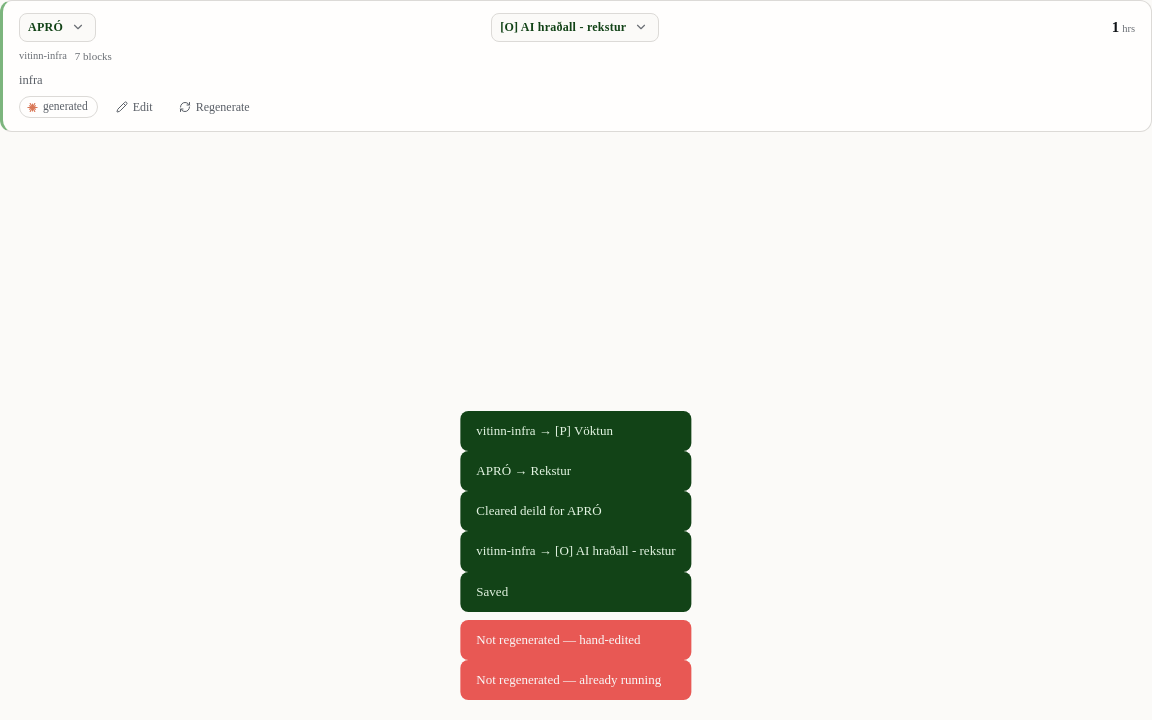
Test: BillingGroup line text (FR-26/FR-31/FR-33/FR-35) › polls running→done: shows Writing…, disables the button, then toasts and refreshes
Click the button "Regenerate" at (214,107), box [169, 95, 260, 119]
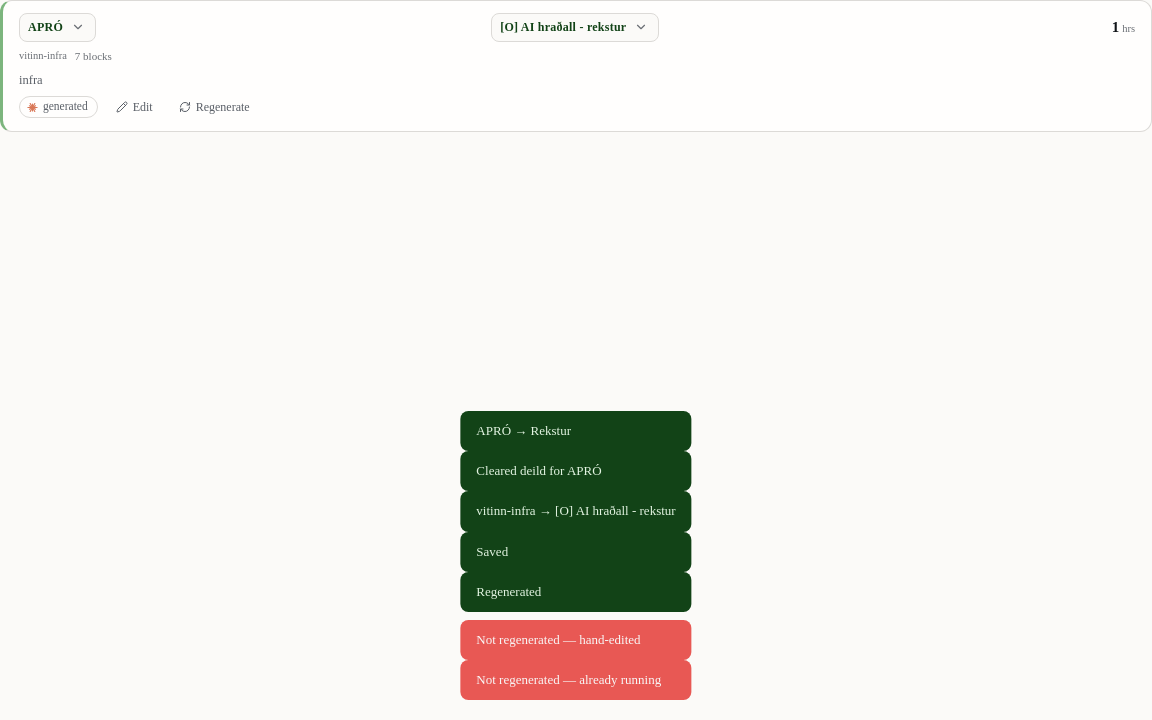
Expected: the text "Regenerated" is shown, [460, 572, 692, 612]
